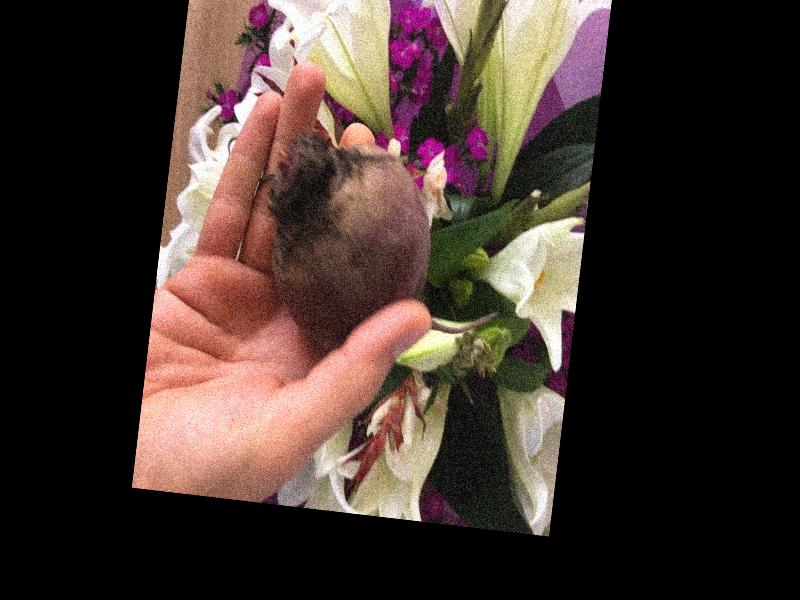Beet: (258, 130, 518, 364)
